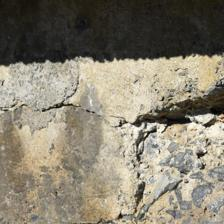Crack: (128, 85, 222, 216), (1, 92, 106, 123)
